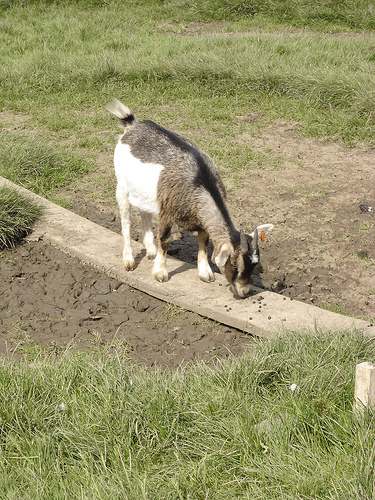goat: (102, 96, 272, 301)
